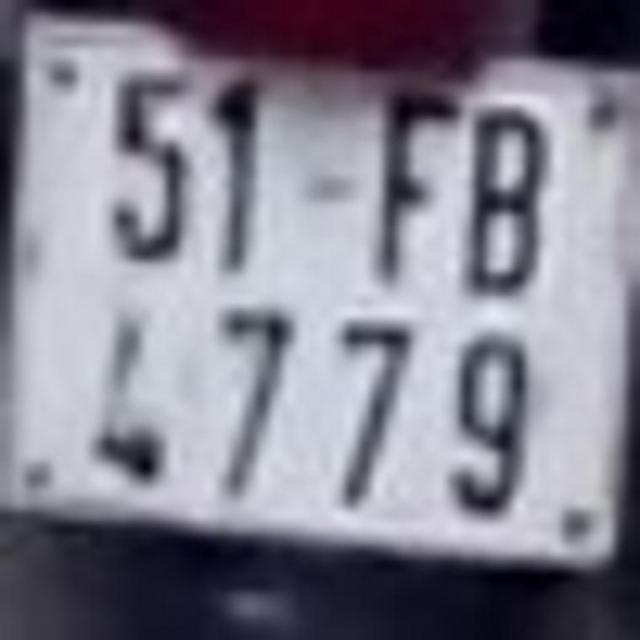1: (208, 71, 260, 274)
4: (98, 306, 169, 485)
5: (106, 59, 190, 271)
7: (190, 305, 296, 498), (327, 312, 412, 506)
9: (449, 327, 532, 515)
B: (471, 106, 549, 297)
F: (366, 83, 462, 288)
